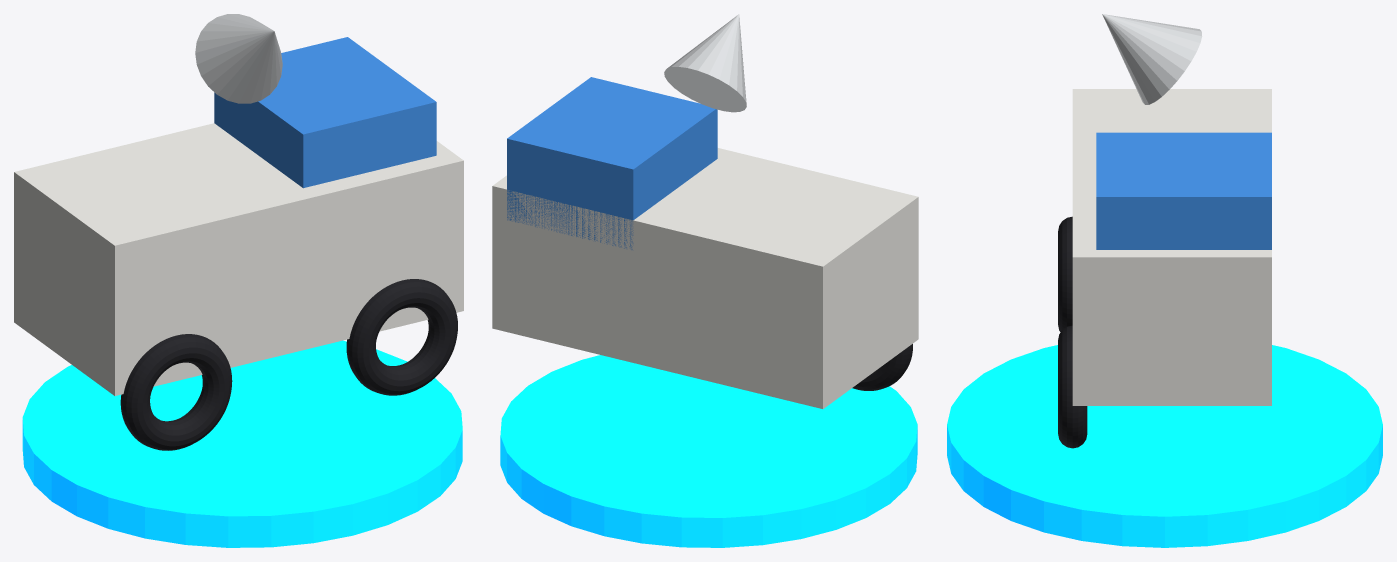
Rendered from news_news_van.glb.
3 views of the same model, side by side, from view 1: azimuth 30°, elevation 25°; view 2: azimuth 150°, elevation 25°; view 3: azimuth 270°, elevation 25° (orthographic). The views are drawn at different scales.
Parts seen in each view (by area): view 1: 09_09_Popular_News_News_Van_part_01, 09_09_Popular_News_News_Van_ROOT_base, 09_09_Popular_News_News_Van_part_02, 09_09_Popular_News_News_Van_part_04, 09_09_Popular_News_News_Van_part_03, 09_09_Popular_News_News_Van_part_05; view 2: 09_09_Popular_News_News_Van_part_01, 09_09_Popular_News_News_Van_ROOT_base, 09_09_Popular_News_News_Van_part_02, 09_09_Popular_News_News_Van_part_05, 09_09_Popular_News_News_Van_part_03; view 3: 09_09_Popular_News_News_Van_ROOT_base, 09_09_Popular_News_News_Van_part_01, 09_09_Popular_News_News_Van_part_02, 09_09_Popular_News_News_Van_part_05, 09_09_Popular_News_News_Van_part_04, 09_09_Popular_News_News_Van_part_03.
Boxes of the visible parts, x1,y1,x2,y2 form: 09_09_Popular_News_News_Van_part_01: [14, 123, 463, 395]; 09_09_Popular_News_News_Van_ROOT_base: [22, 340, 462, 547]; 09_09_Popular_News_News_Van_part_02: [214, 37, 436, 188]; 09_09_Popular_News_News_Van_part_04: [346, 279, 457, 395]; 09_09_Popular_News_News_Van_part_03: [120, 334, 232, 450]; 09_09_Popular_News_News_Van_part_05: [195, 14, 282, 103]; 09_09_Popular_News_News_Van_part_01: [492, 148, 918, 408]; 09_09_Popular_News_News_Van_ROOT_base: [500, 355, 917, 547]; 09_09_Popular_News_News_Van_part_02: [507, 77, 717, 249]; 09_09_Popular_News_News_Van_part_05: [664, 14, 746, 112]; 09_09_Popular_News_News_Van_part_03: [852, 344, 912, 390]; 09_09_Popular_News_News_Van_ROOT_base: [947, 345, 1382, 547]; 09_09_Popular_News_News_Van_part_01: [1072, 89, 1271, 405]; 09_09_Popular_News_News_Van_part_02: [1096, 132, 1271, 249]; 09_09_Popular_News_News_Van_part_05: [1102, 14, 1202, 104]; 09_09_Popular_News_News_Van_part_04: [1058, 325, 1087, 448]; 09_09_Popular_News_News_Van_part_03: [1058, 216, 1072, 331].
Size of the model in its own units: 0.76 by 0.85 by 0.76.
